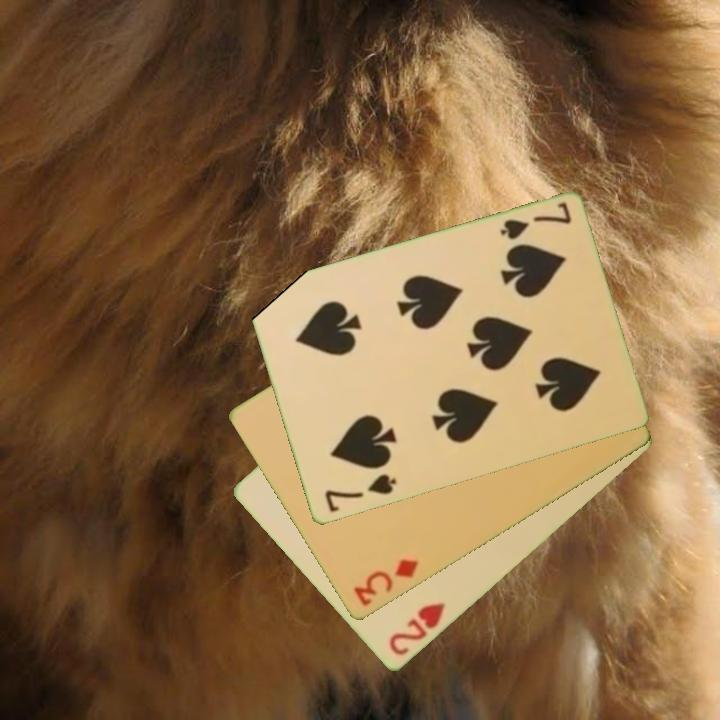2h: (385, 599, 448, 659)
3d: (349, 556, 422, 610)
7s: (321, 471, 399, 516), (496, 199, 574, 243)
